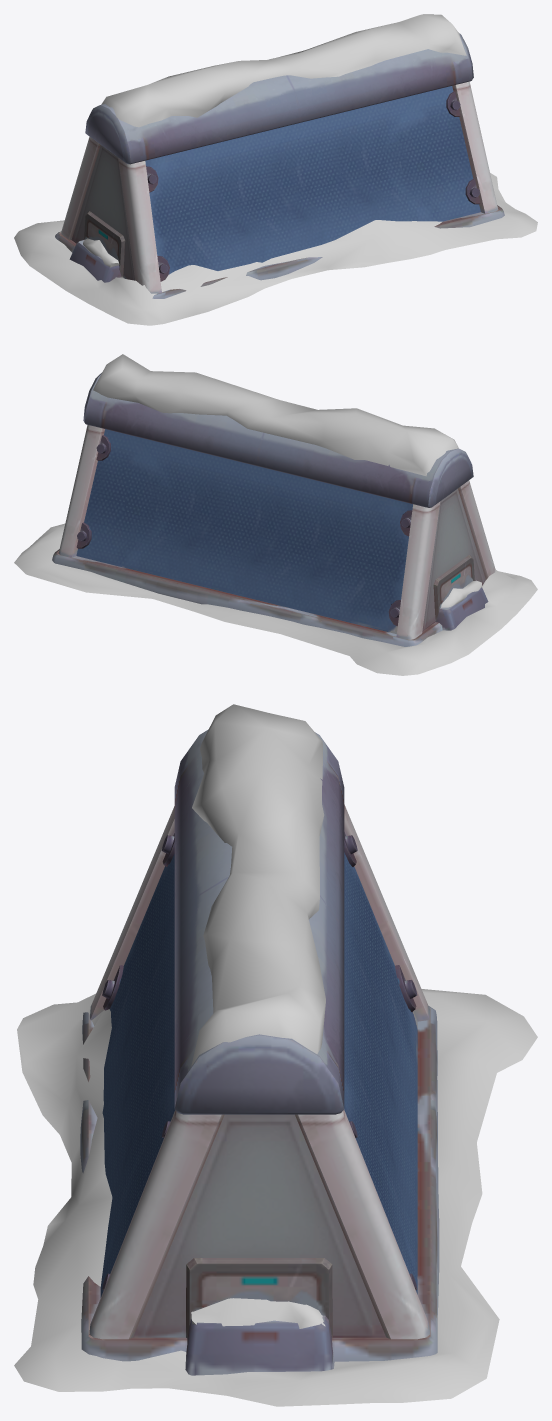
File: pref_sm_city_roadblock01_snow_lv3.fbx
The picture shows the model from 3 angles, top to bottom: view 1: azimuth 30°, elevation 25°; view 2: azimuth 150°, elevation 25°; view 3: azimuth 270°, elevation 25°; orthographic projection. The views are drawn at different scales.
Visible parts, largest first — view 1: sm_city_roadblock01_snow_lv3, sm_city_roadblock01b_snow_lv3; view 2: sm_city_roadblock01_snow_lv3, sm_city_roadblock01b_snow_lv3; view 3: sm_city_roadblock01_snow_lv3, sm_city_roadblock01b_snow_lv3.
Part boxes in pixels (x1,y1,x2,y2): sm_city_roadblock01_snow_lv3: (55,33,504,298); sm_city_roadblock01b_snow_lv3: (14,14,537,325); sm_city_roadblock01_snow_lv3: (52,373,495,646); sm_city_roadblock01b_snow_lv3: (14,354,537,675); sm_city_roadblock01_snow_lv3: (80,729,439,1375); sm_city_roadblock01b_snow_lv3: (14,704,537,1406).
Size of the model in its own units: 4.52 by 1.79 by 2.4.
